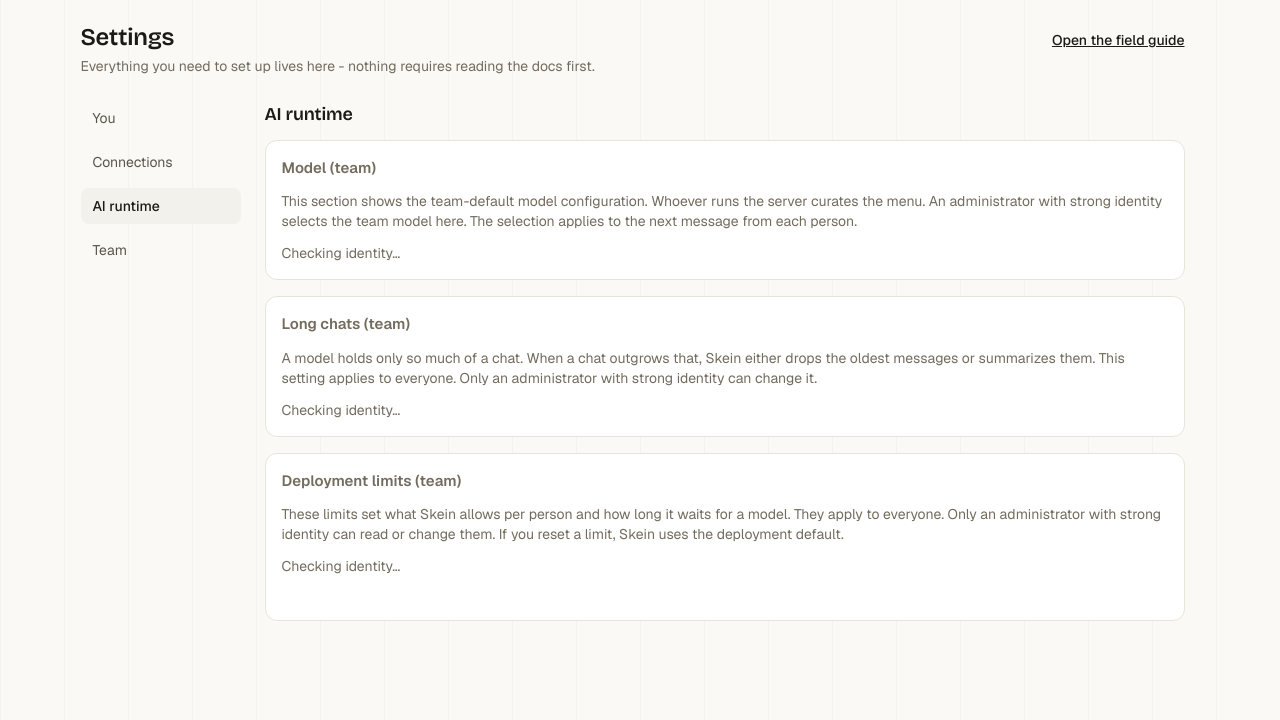
Test: the model section › reports a stale stored pick instead of hiding it
Click the link "AI runtime": [160, 206] box [80, 188, 240, 224]
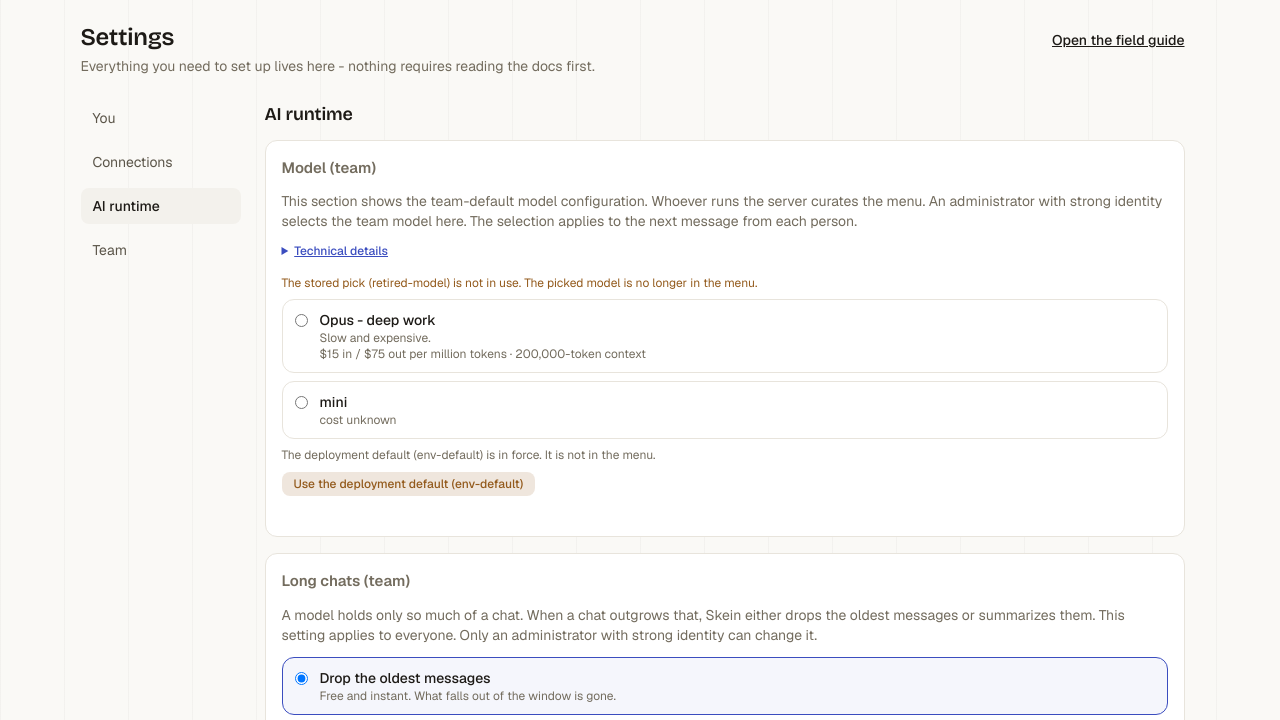
Check: the text "is not in use" shows "retired-model", box [372, 275, 447, 291]
Check: the text "is not in use" shows "no longer in the menu", box [524, 275, 757, 291]
